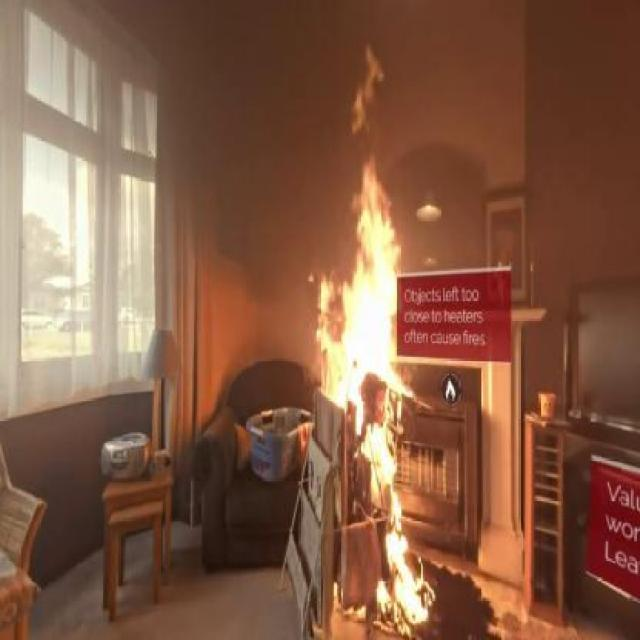fire: (324, 187, 432, 640)
smoke: (176, 1, 352, 238)
